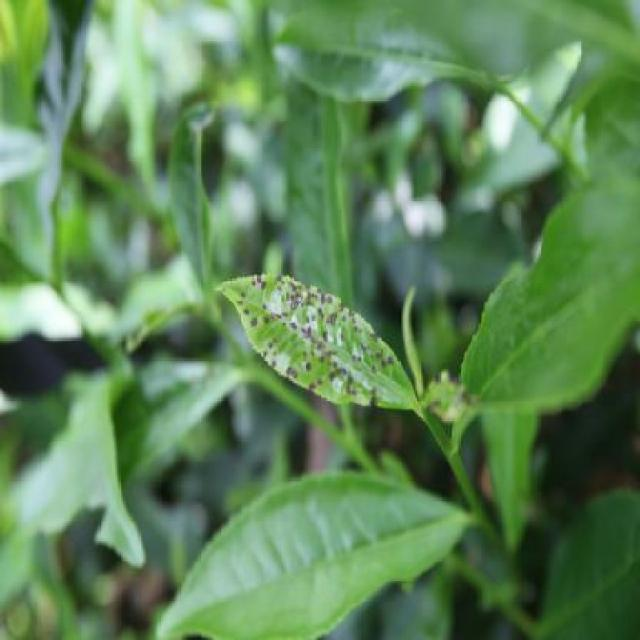Tea Mosquito bug infested leaf: (207, 270, 416, 418)
